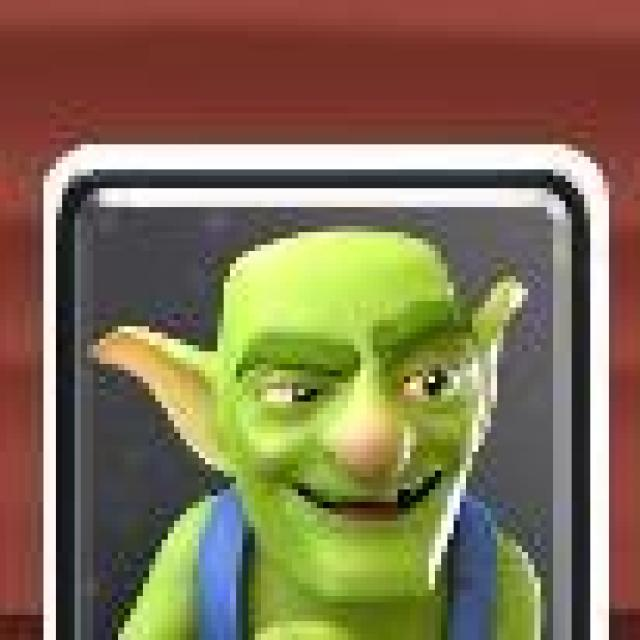Goblins: (38, 140, 612, 640)
